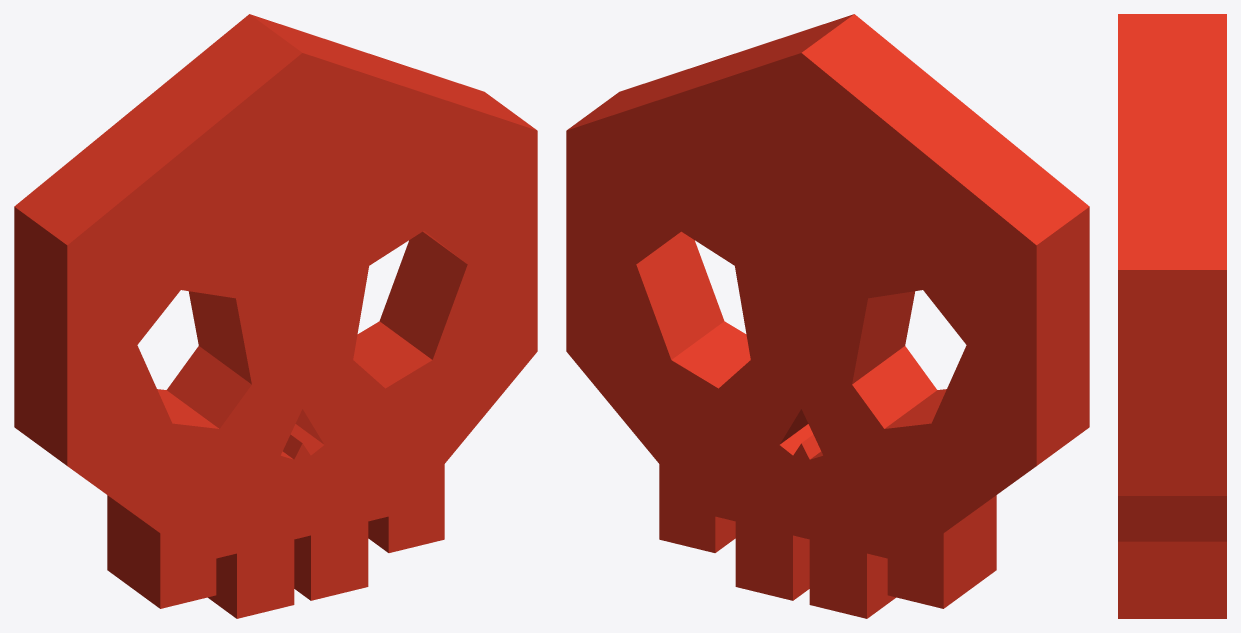
File: Icon_Skull_01.fbx
3 views of the same model, side by side, from view 1: azimuth 30°, elevation 25°; view 2: azimuth 150°, elevation 25°; view 3: azimuth 270°, elevation 25° (orthographic). The views are drawn at different scales.
Parts seen in each view (by area): view 1: Icon_Skull_01; view 2: Icon_Skull_01; view 3: Icon_Skull_01.
Boxes of the visible parts, bbox=[...] form: Icon_Skull_01: bbox=[14, 14, 537, 618]; Icon_Skull_01: bbox=[566, 14, 1089, 618]; Icon_Skull_01: bbox=[1118, 14, 1226, 618].
Size of the model in its own units: 61.69 by 68.94 by 12.06.
